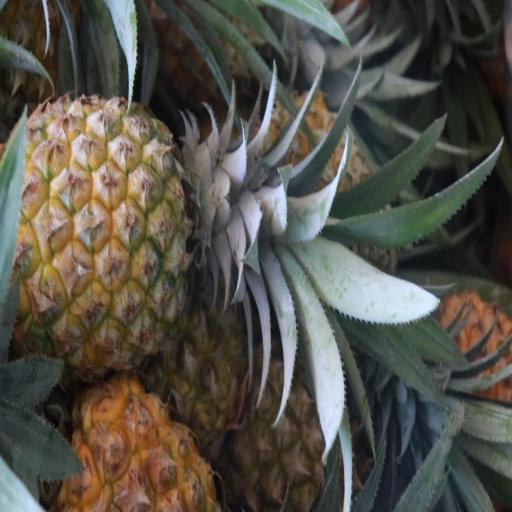Pineapple - v8 v1: (4, 84, 185, 345), (38, 358, 216, 512), (225, 319, 351, 512)
